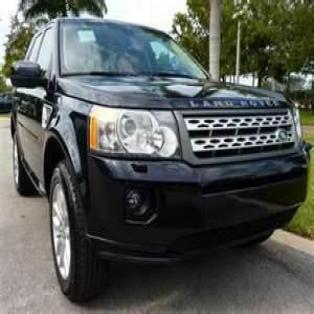Auto: (8, 18, 309, 303)
